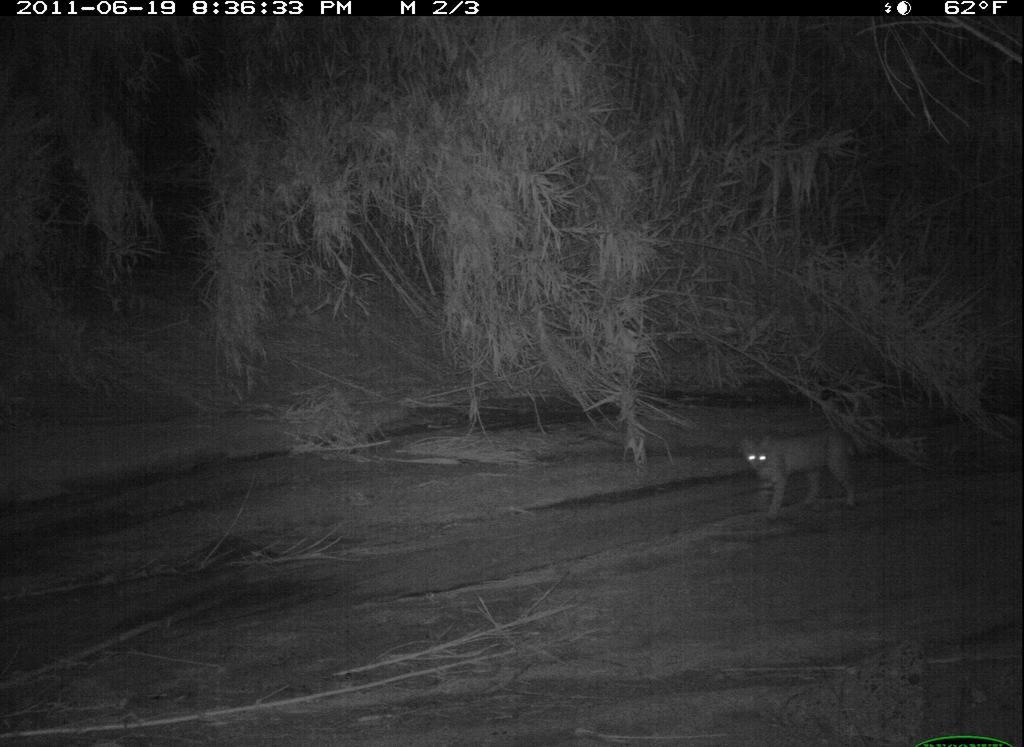bobcat: (716, 413, 886, 533)
